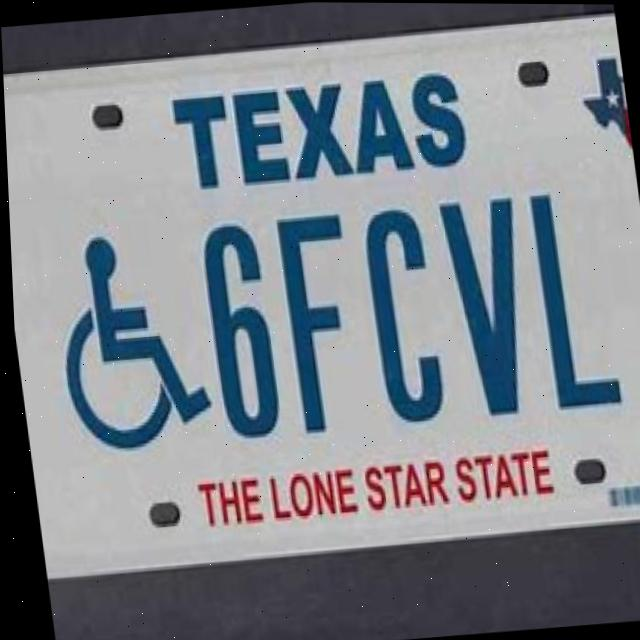symbol_of_access: (44, 224, 217, 459)
